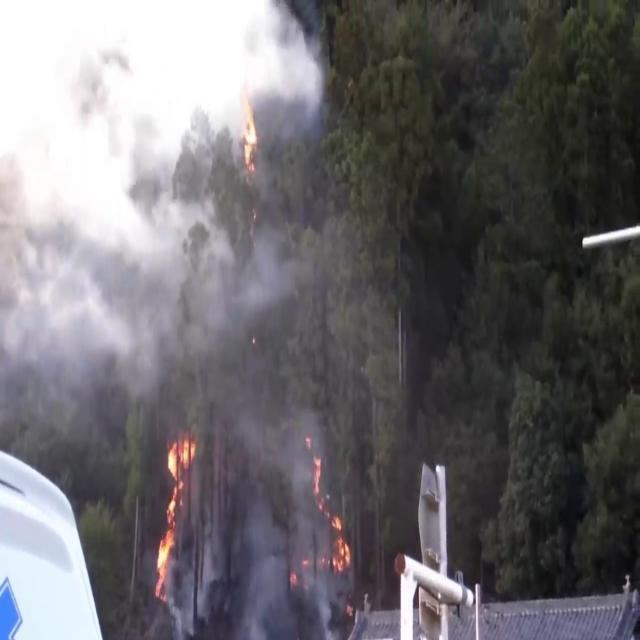Fire: (150, 427, 198, 592), (306, 454, 354, 584)
Smoke: (1, 0, 320, 454), (215, 381, 308, 640)
